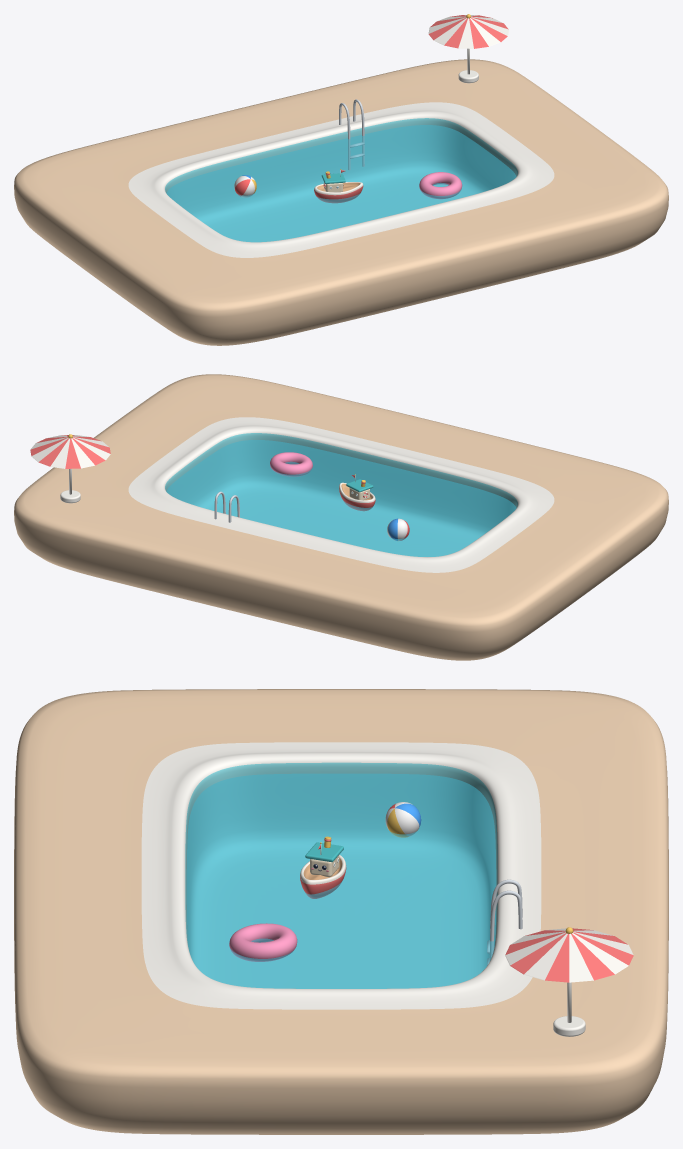
Rendered from pool-scene.glb.
3 renders of one model, top to bottom at view 1: azimuth 30°, elevation 25°; view 2: azimuth 150°, elevation 25°; view 3: azimuth 270°, elevation 25°, orthographic. The views are drawn at different scales.
Parts seen in each view (by area): view 1: PoolBody, PoolWater, UmbrellaCanopy, DonutFloatie, Hull; view 2: PoolBody, PoolWater, UmbrellaCanopy, DonutFloatie, Hull; view 3: PoolBody, PoolWater, UmbrellaCanopy, DonutFloatie, Hull, BeachBall.
Part boxes in pixels (x1,y1,x2,y2): PoolBody: [14, 59, 668, 345]; PoolWater: [166, 125, 516, 242]; UmbrellaCanopy: [428, 15, 508, 48]; DonutFloatie: [419, 172, 462, 199]; Hull: [314, 182, 363, 203]; PoolBody: [14, 374, 668, 660]; PoolWater: [166, 440, 516, 556]; UmbrellaCanopy: [30, 435, 110, 468]; DonutFloatie: [270, 452, 312, 476]; Hull: [339, 482, 375, 511]; PoolBody: [14, 689, 668, 1134]; PoolWater: [186, 773, 496, 988]; UmbrellaCanopy: [505, 928, 633, 982]; DonutFloatie: [229, 923, 297, 961]; Hull: [300, 855, 346, 898]; BeachBall: [385, 802, 421, 837].
Size of the model in its own units: 28.1 by 6.6 by 20.11.
